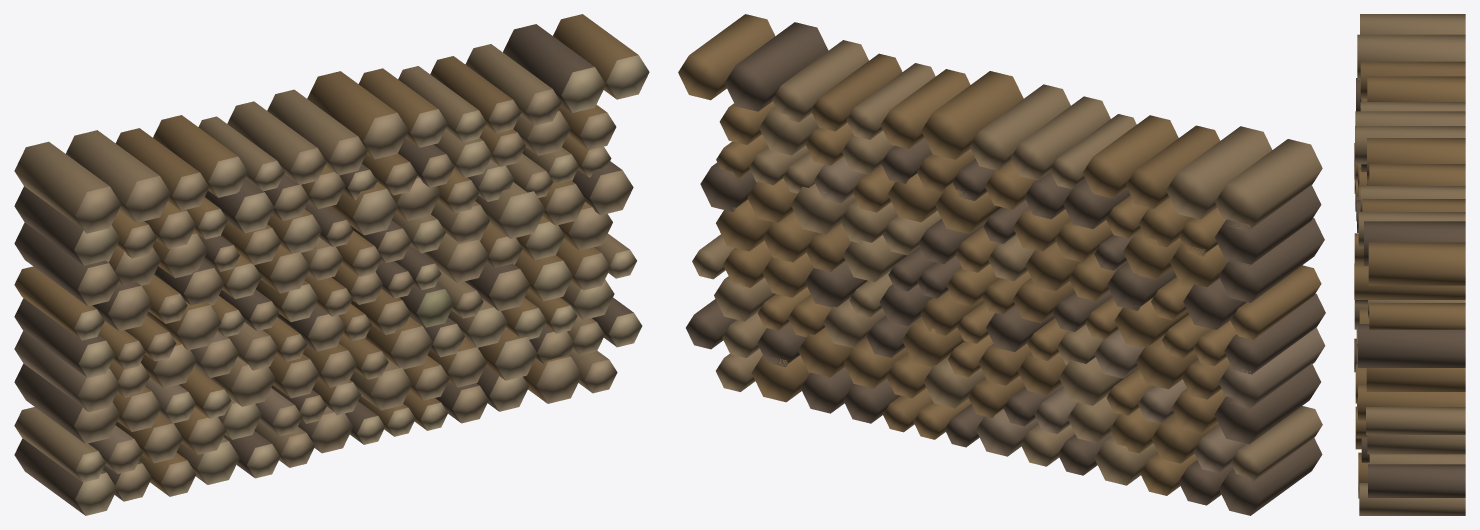
Rendered from landscape.yard.log_pile_1.glb.
3 renders of one model, left to right at view 1: azimuth 30°, elevation 25°; view 2: azimuth 150°, elevation 25°; view 3: azimuth 270°, elevation 25°, orthographic. The views are drawn at different scales.
Visible parts, largest first — view 1: main__paint_986, main__paint_764, main__paint_865, main__paint_654, main__paint_a97, main__paint_987, main__paint_754, main__paint_765, main__paint_a87, main__paint_886; view 2: main__paint_764, main__paint_865, main__paint_654, main__paint_754, main__paint_765; view 3: main__paint_764, main__paint_865, main__paint_654, main__paint_754.
Part boxes in pixels (x1,y1,x2,y2): main__paint_986: [74, 89, 633, 501]; main__paint_764: [14, 14, 638, 496]; main__paint_865: [14, 44, 629, 484]; main__paint_654: [14, 24, 633, 515]; main__paint_a97: [74, 55, 649, 515]; main__paint_987: [198, 109, 545, 415]; main__paint_754: [109, 56, 526, 462]; main__paint_765: [14, 159, 499, 473]; main__paint_a87: [74, 110, 614, 484]; main__paint_886: [416, 289, 454, 327]; main__paint_764: [678, 14, 1321, 495]; main__paint_865: [692, 40, 1322, 485]; main__paint_654: [686, 22, 1325, 515]; main__paint_754: [798, 53, 1230, 463]; main__paint_765: [814, 156, 1325, 473]; main__paint_764: [1354, 76, 1465, 498]; main__paint_865: [1354, 14, 1465, 515]; main__paint_654: [1354, 78, 1465, 497]; main__paint_754: [1355, 61, 1465, 449].
Bounding box in the file's own units: 2.24 × 1.2 × 0.4296.
